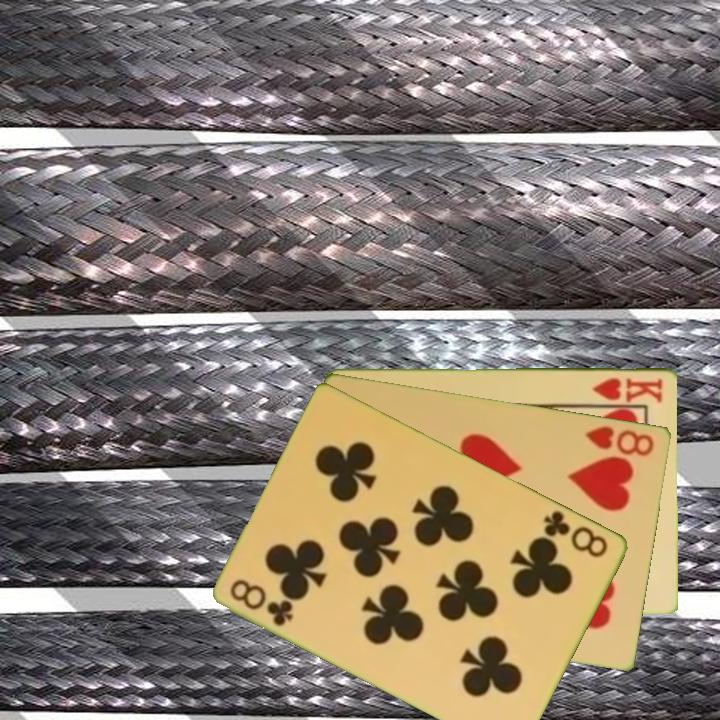8c: (540, 506, 612, 561), (227, 575, 297, 629)
8h: (581, 422, 657, 459)
Kh: (590, 374, 666, 405)
